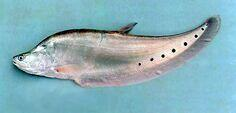Knifefish: (12, 13, 222, 89)
